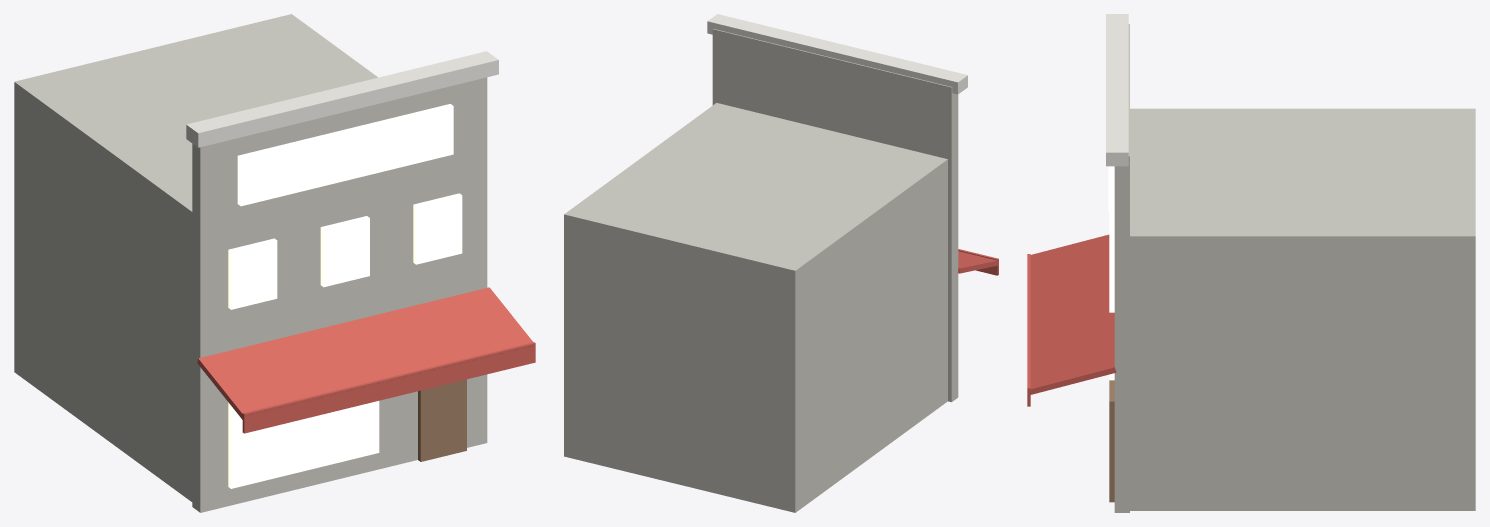
Rendered from storefront.glb.
3 views of the same model, side by side, from view 1: azimuth 30°, elevation 25°; view 2: azimuth 150°, elevation 25°; view 3: azimuth 270°, elevation 25° (orthographic). The views are drawn at different scales.
Visible parts, largest first — view 1: storefront; view 2: storefront; view 3: storefront.
Boxes of the visible parts, <box> form: storefront: <box>14,14,535,512</box>; storefront: <box>564,14,998,512</box>; storefront: <box>1027,14,1475,512</box>.
Bounding box in the file's own units: 6.5 × 7.95 × 8.88.
